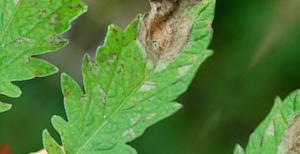Tomato leaf late blight: (7, 0, 273, 154)
